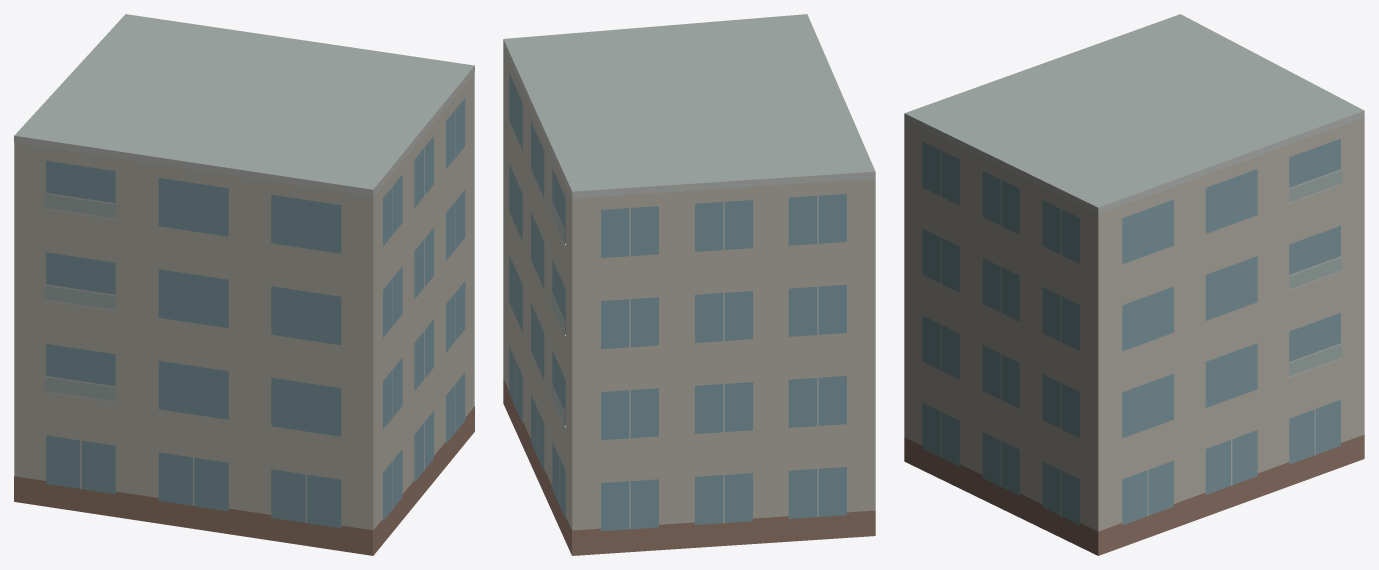
The model's file is survey-upis-32811471.glb.
3 views of the same model, side by side, from view 1: azimuth 30°, elevation 25°; view 2: azimuth 150°, elevation 25°; view 3: azimuth 270°, elevation 25° (orthographic). The views are drawn at different scales.
Parts seen in each view (by area): view 1: survey-upis-32811471.tmp; view 2: survey-upis-32811471.tmp; view 3: survey-upis-32811471.tmp.
Part boxes in pixels (x1,y1,x2,y2): survey-upis-32811471.tmp: (14, 14, 474, 555); survey-upis-32811471.tmp: (503, 14, 875, 555); survey-upis-32811471.tmp: (904, 14, 1364, 555).
Bounding box in the file's own units: 15.4 × 12.9 × 15.47.
